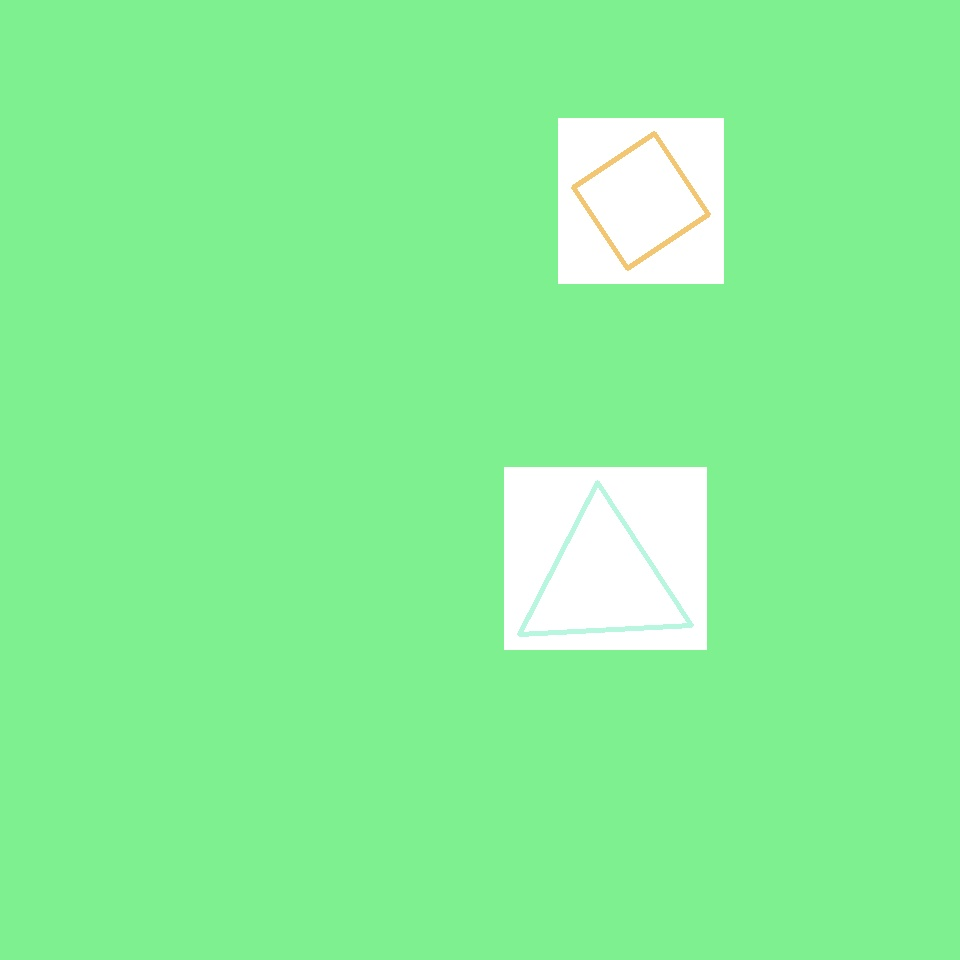circle: (480, 410, 714, 676), (517, 505, 689, 657), (736, 388, 878, 514), (562, 479, 656, 568)
square: (146, 308, 314, 474), (574, 134, 708, 268), (662, 781, 790, 910)
